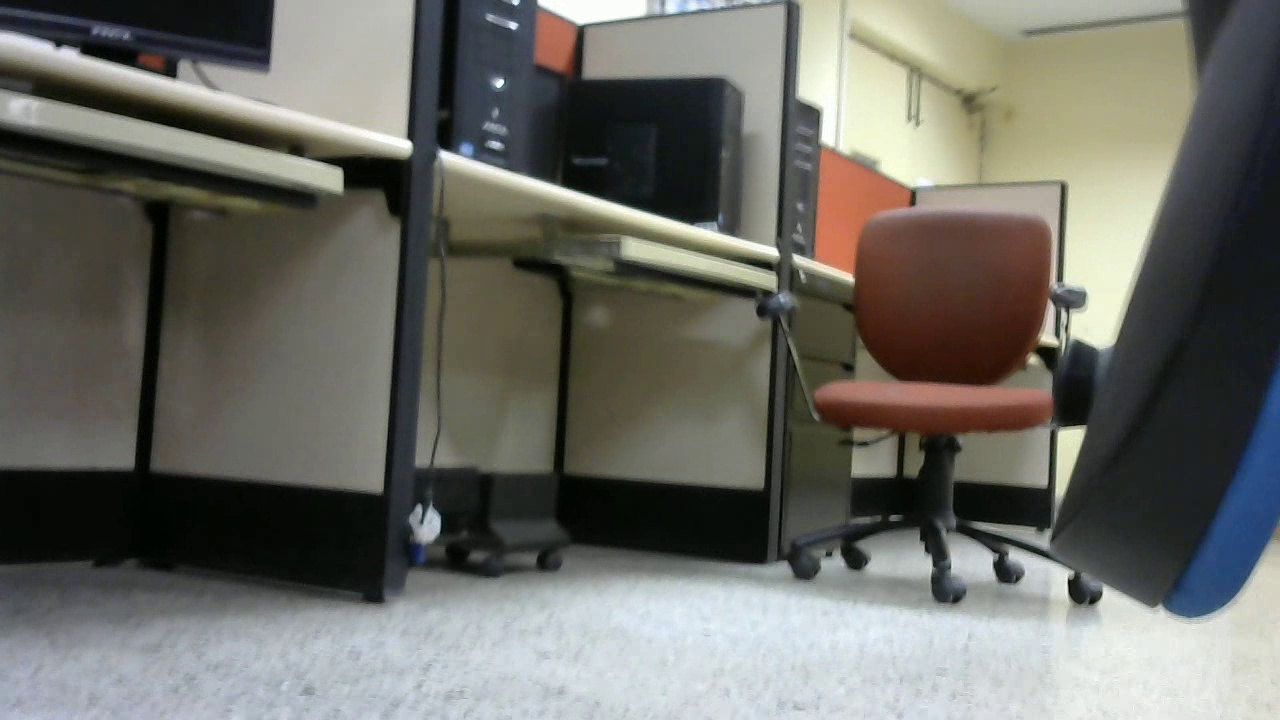chair: (754, 209, 1108, 602)
